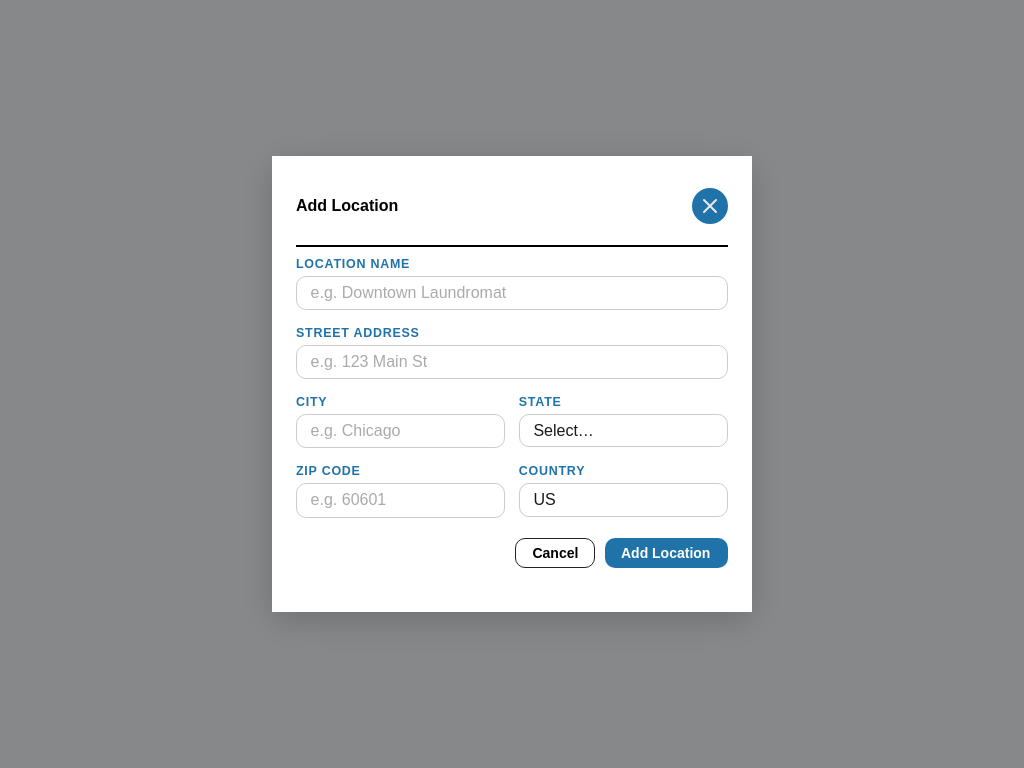
AddLocationModal › submission › shows error banner when coordinates cannot be found
The width and height of the screenshot is (1024, 768).
In the field labelled "Location Name": (512, 293) [296,276,728,310], type "Downtown Laundromat"
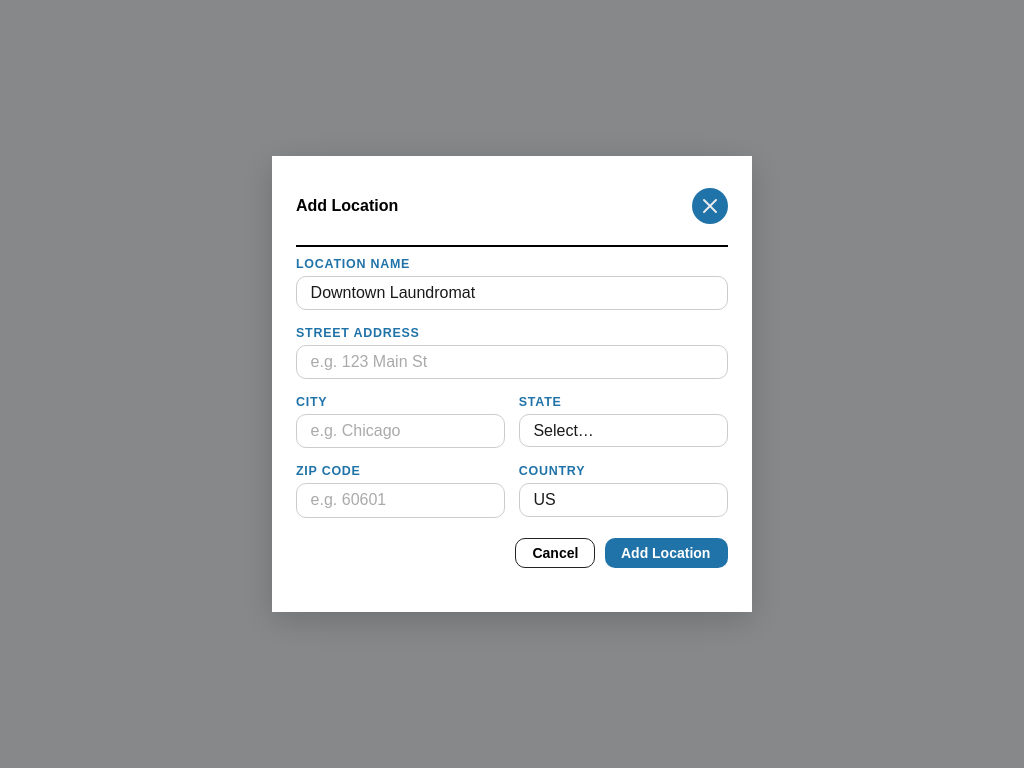
In the field labelled "Street Address": (512, 362) [296,345,728,379], type "123 Main St"
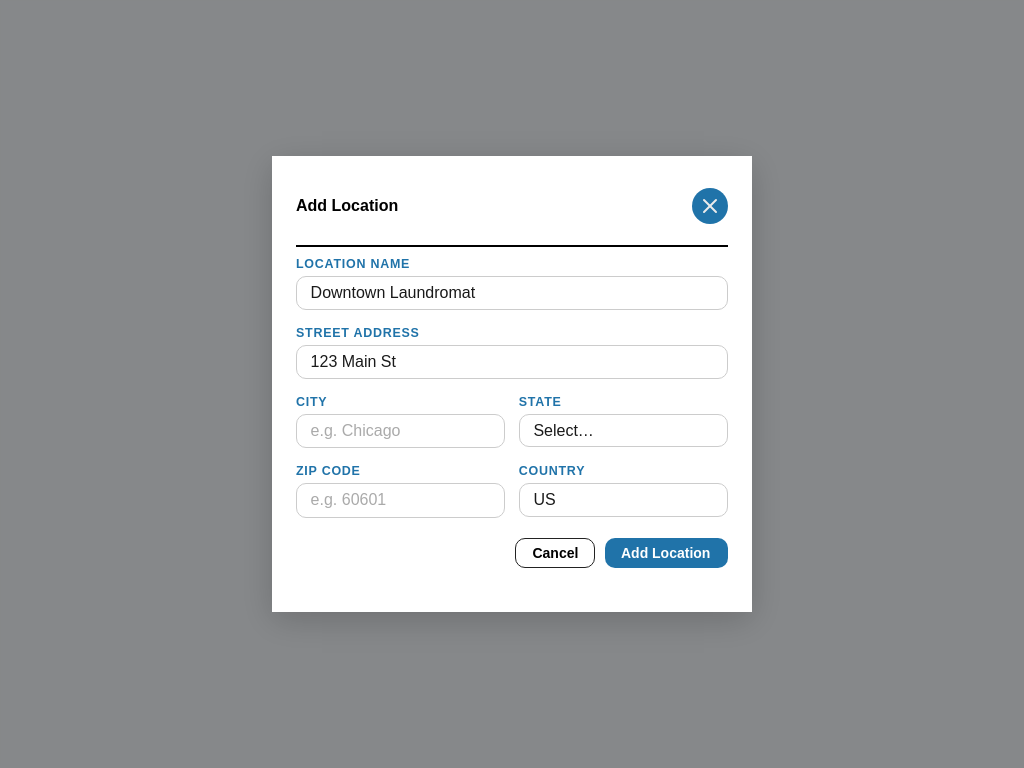
In the field labelled "City": (401, 431) [296,414,505,448], type "Indianapolis"
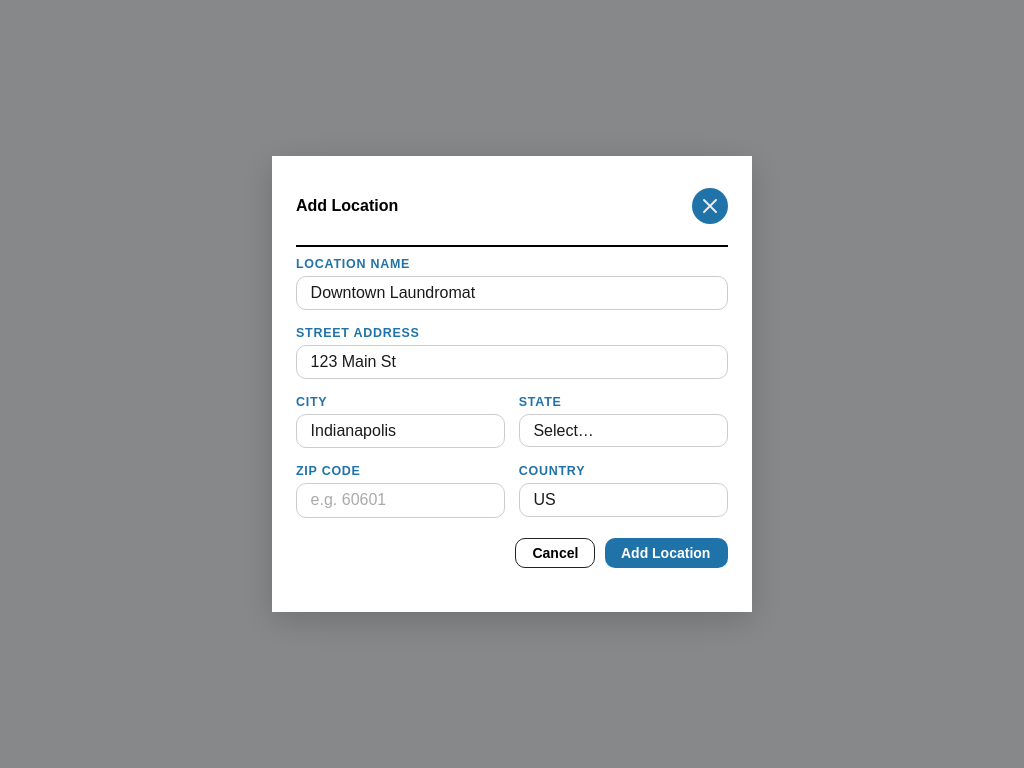
Select "IN" in the dropdown labelled "State": (623, 431) [519,414,728,447]
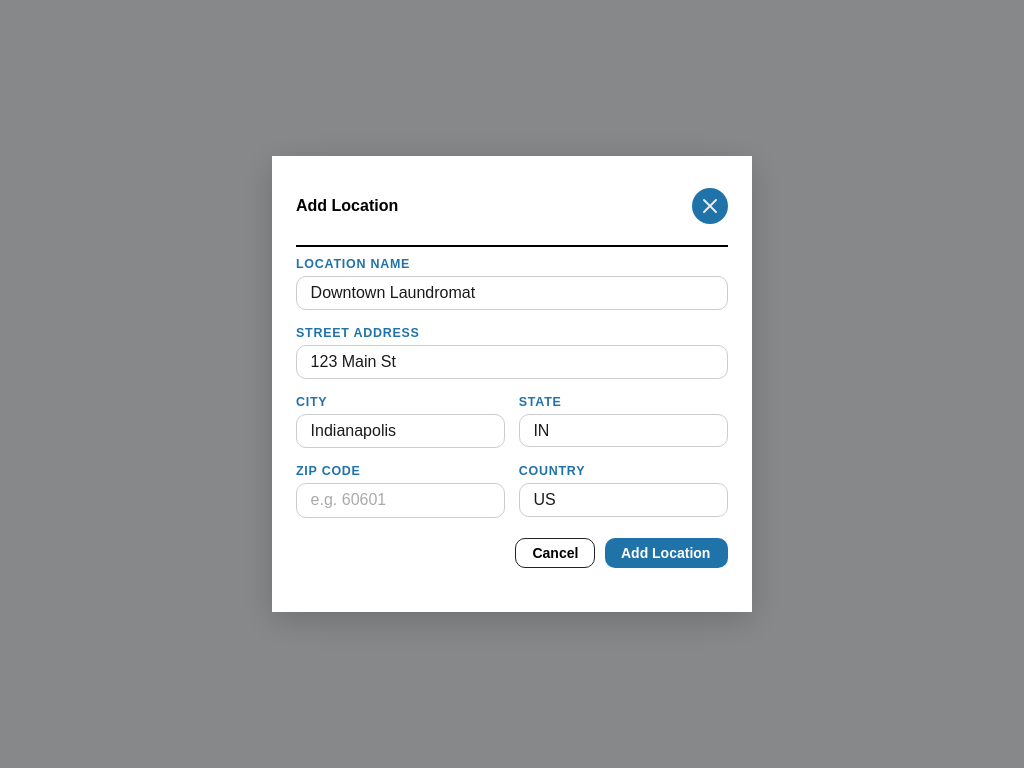
In the field labelled "ZIP Code": (401, 500) [296,483,505,518], type "46201"
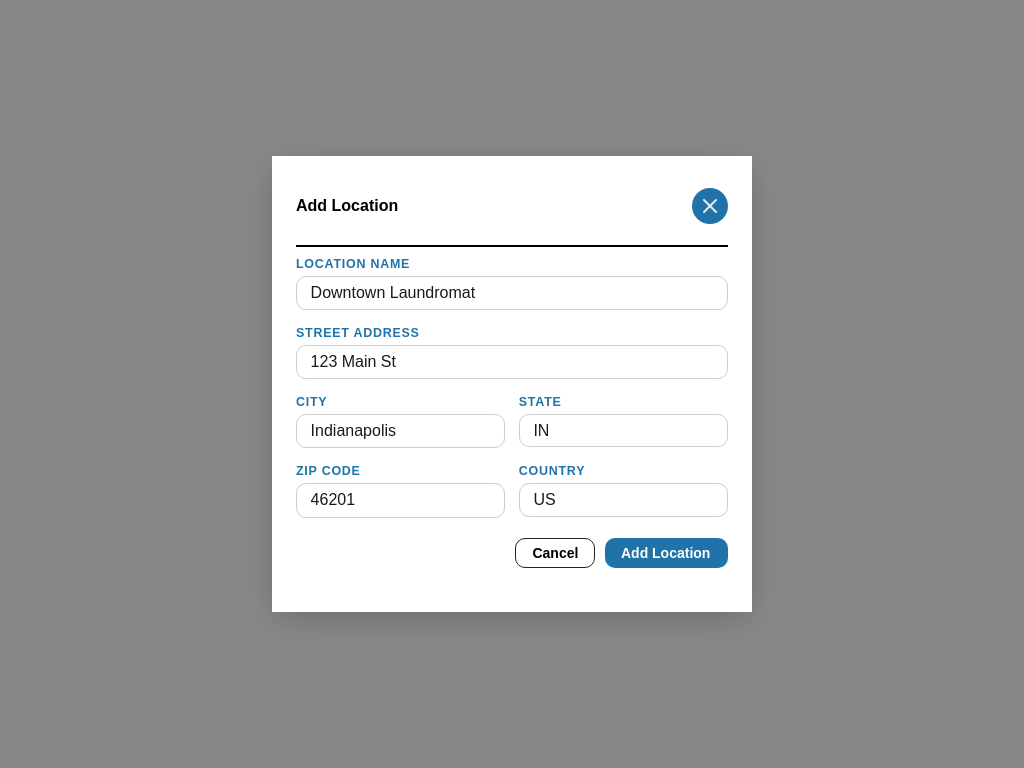
Click the button "Add Location": (666, 553) [605,538,728,568]
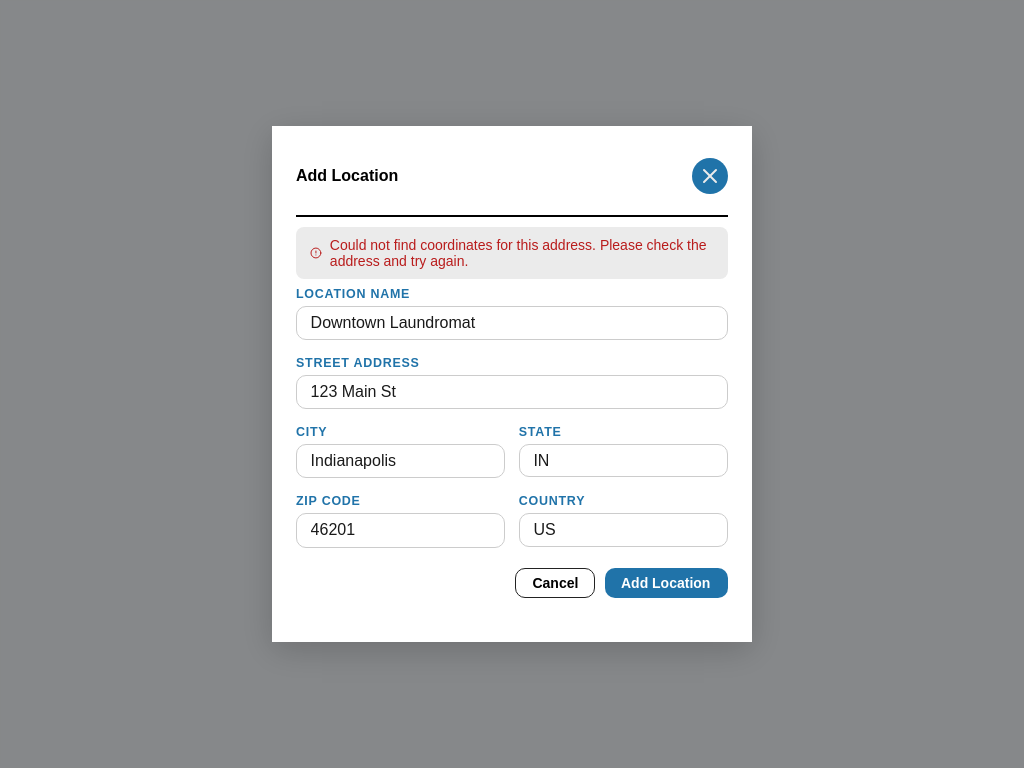
Expected: the text "Could not find coordinates for this address. Please check the address and try again." is shown, [330,237,706,269]
